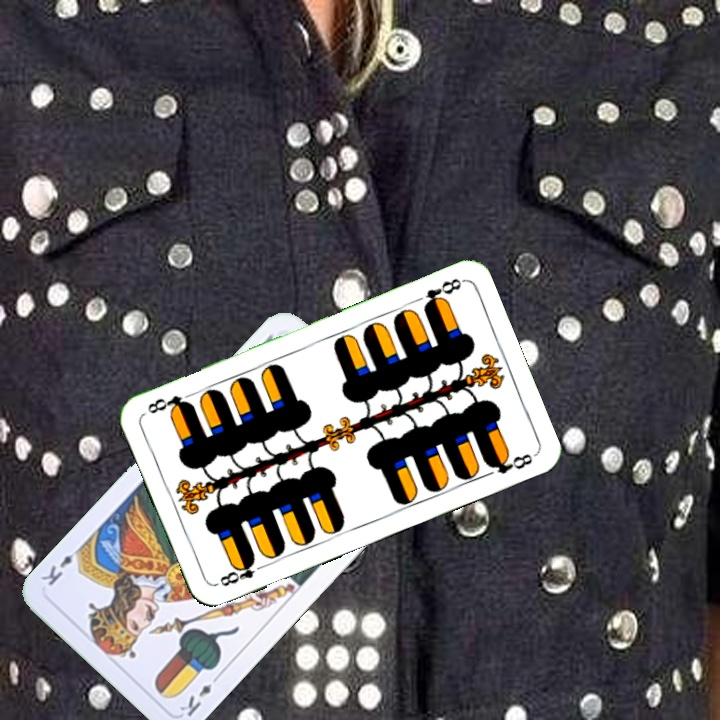E8: (212, 554, 269, 589), (419, 274, 466, 312)
EK: (175, 669, 224, 719)
